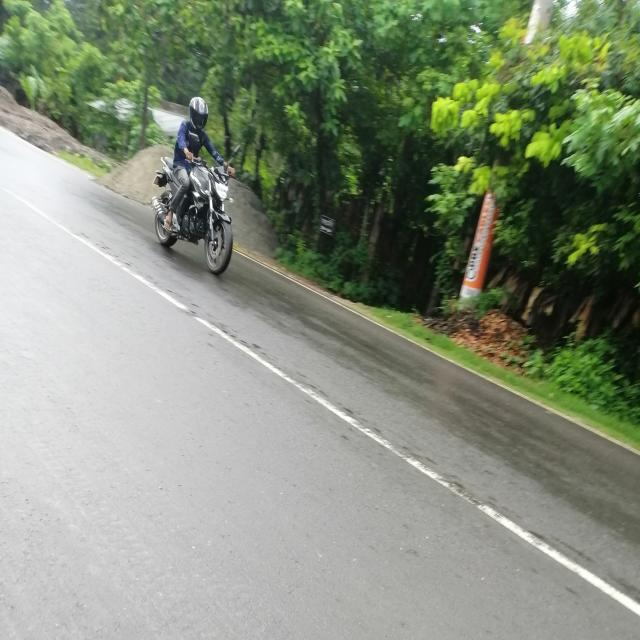Motorbike: (146, 138, 248, 284)
